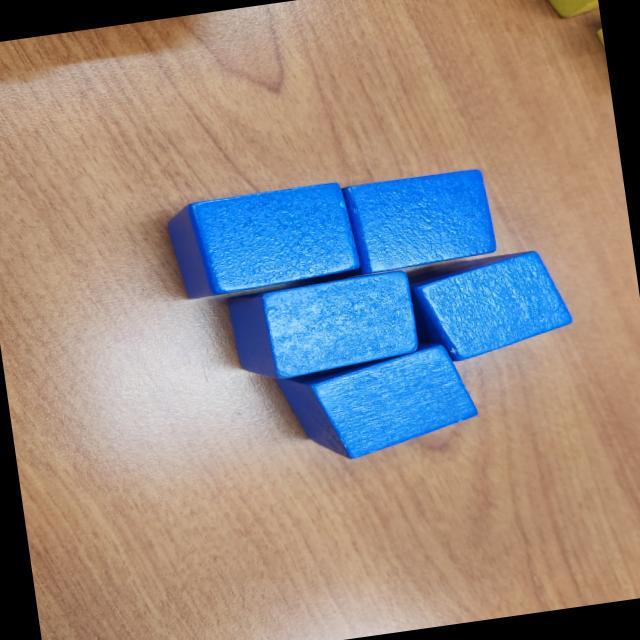blue: (274, 340, 488, 470), (160, 180, 366, 302), (224, 266, 425, 386), (409, 245, 579, 368), (344, 166, 500, 279)
yellow: (517, 0, 600, 25)
